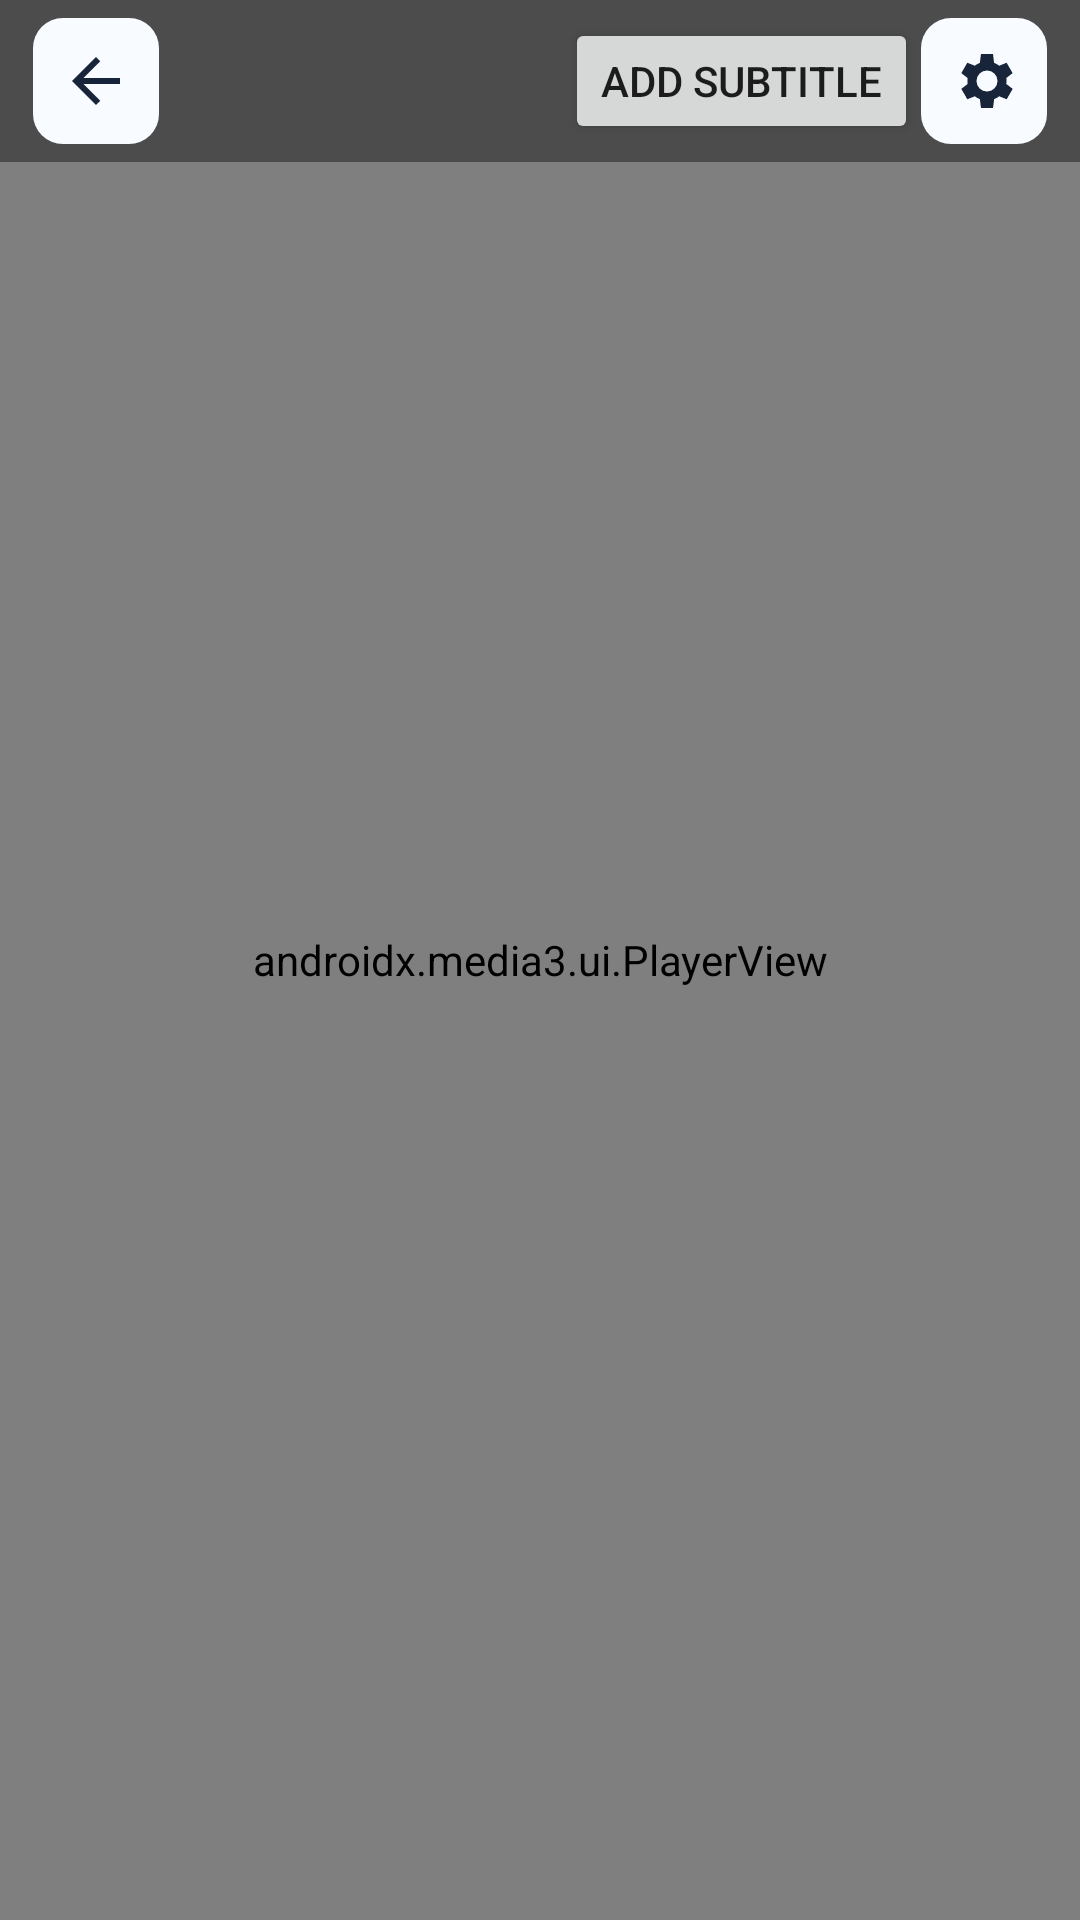

Icon click points for this 1080 x 1920 phone screenshot, format [x,y]:
Back: [96,81]
Player settings: [984,81]
